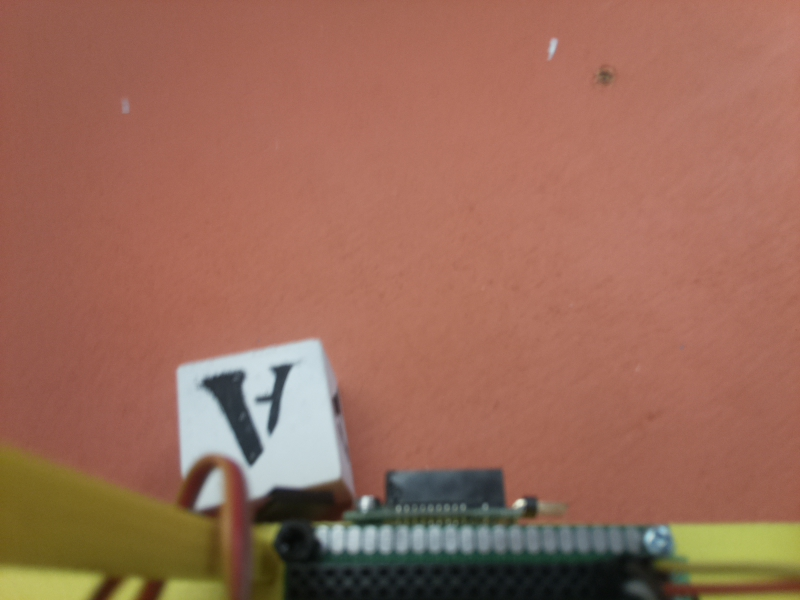blockA: (175, 338, 358, 509)
